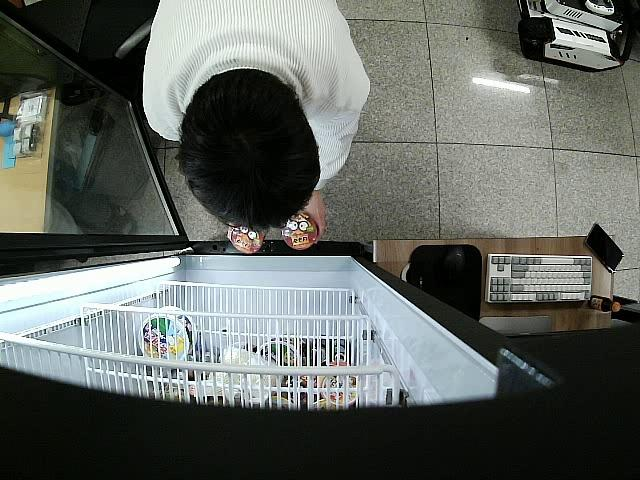06_nuguri_S: (281, 215, 319, 250), (231, 226, 268, 252)
